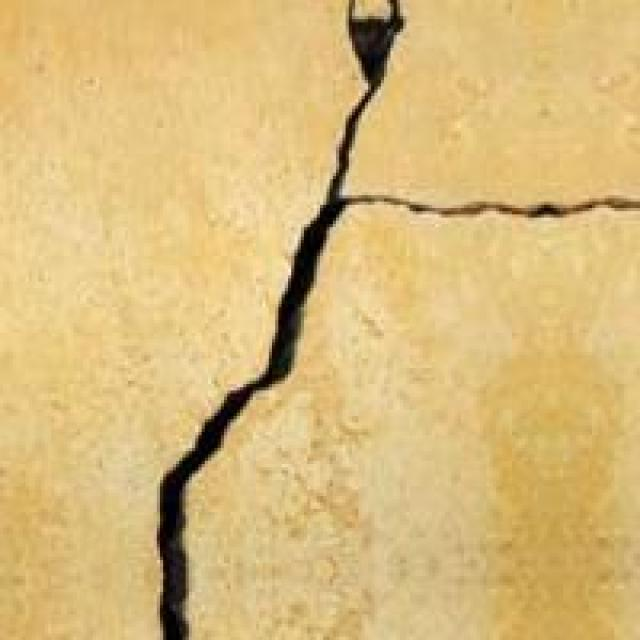crack: (125, 0, 637, 637)
